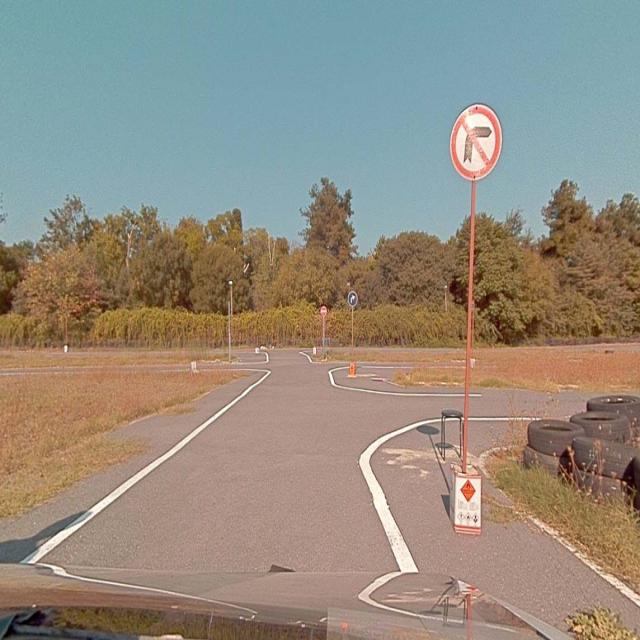girisyok: (321, 306, 327, 316)
sag: (348, 292, 357, 306)
sagadonulmez: (449, 105, 502, 182)
